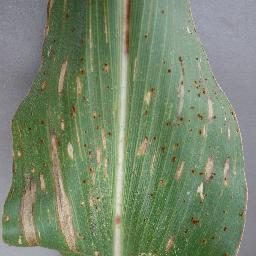Gray_Leaf_Spot: (50, 103, 81, 255), (8, 111, 39, 250), (176, 0, 208, 122), (199, 67, 233, 137), (92, 125, 113, 201), (40, 0, 58, 63), (235, 184, 250, 255), (232, 112, 247, 183), (194, 154, 215, 203), (120, 0, 133, 53), (75, 54, 88, 95), (222, 155, 237, 189), (175, 150, 188, 180), (59, 56, 68, 97), (144, 87, 158, 109), (74, 29, 92, 45), (190, 212, 204, 232), (139, 135, 151, 157), (162, 235, 178, 250), (30, 114, 48, 126), (159, 59, 173, 73), (147, 188, 163, 199), (104, 58, 111, 77), (1, 209, 10, 223), (43, 78, 54, 89), (166, 122, 180, 129), (159, 144, 167, 154), (68, 7, 72, 21), (31, 144, 38, 151), (160, 7, 166, 15), (90, 116, 105, 119), (175, 141, 186, 145), (145, 31, 148, 39)
